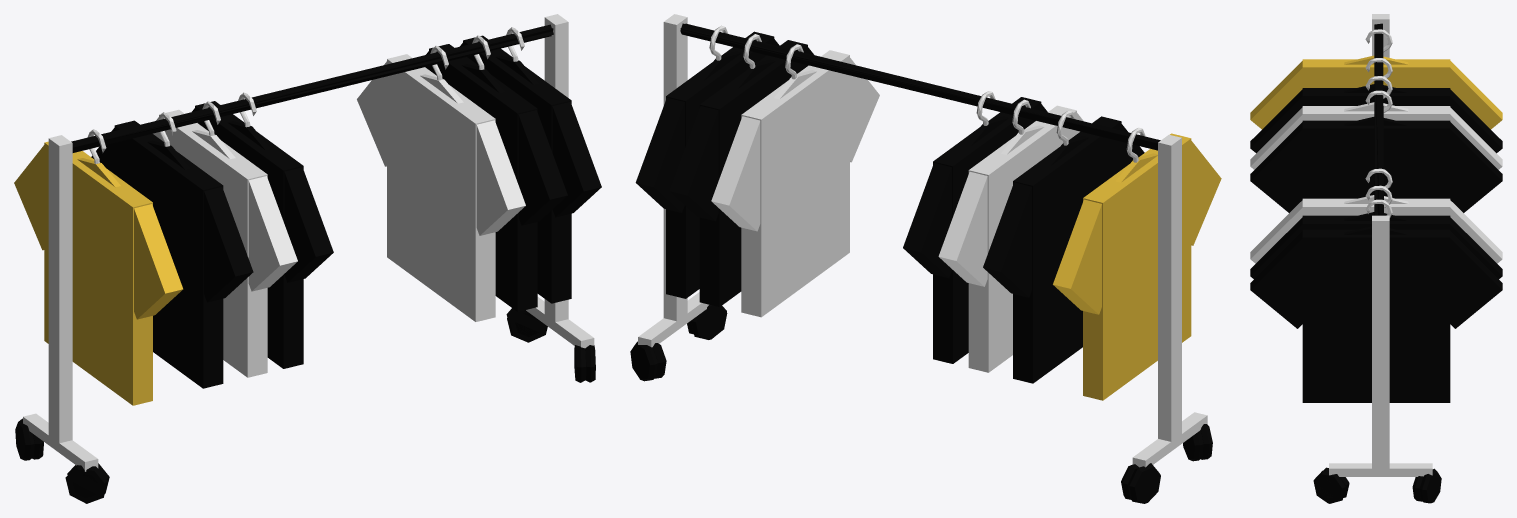
File: rack_8.fbx
3 views of the same model, side by side, from view 1: azimuth 30°, elevation 25°; view 2: azimuth 150°, elevation 25°; view 3: azimuth 270°, elevation 25° (orthographic). The views are drawn at different scales.
Visible parts, largest first — view 1: Plane.007, Plane.013, Plane.011, Plane.010, Plane.008, Plane.006, Plane.009, Stand.R, Bar, Stand.L, Roll.R_1, Roll.L_2 (+2 smaller); view 2: Plane.007, Plane.013, Plane.011, Plane.010, Plane.008, Plane.006, Plane.009, Stand.R, Bar, Stand.L, Roll.R_2, Roll.L_2 (+2 smaller); view 3: Plane.009, Plane.006, Plane.013, Stand.L, Plane.011, Plane.007, Plane.010, Plane.008, Bar, Roll.L_1, Roll.L_2, Stand.R.
Boxes of the visible parts, x1=… form: Plane.007: x1=357, y1=54, x2=525, y2=321; Plane.013: x1=14, y1=141, x2=183, y2=405; Plane.011: x1=91, y1=120, x2=253, y2=388; Plane.010: x1=153, y1=109, x2=297, y2=377; Plane.008: x1=425, y1=44, x2=567, y2=311; Plane.006: x1=192, y1=101, x2=333, y2=368; Plane.009: x1=460, y1=35, x2=601, y2=303; Stand.R: x1=23, y1=135, x2=98, y2=471; Bar: x1=71, y1=24, x2=553, y2=152; Stand.L: x1=526, y1=14, x2=594, y2=348; Roll.R_1: x1=65, y1=463, x2=109, y2=503; Roll.L_2: x1=506, y1=308, x2=547, y2=342; Plane.007: x1=711, y1=50, x2=879, y2=317; Plane.013: x1=1053, y1=133, x2=1221, y2=400; Plane.011: x1=983, y1=116, x2=1144, y2=383; Plane.010: x1=938, y1=105, x2=1083, y2=372; Plane.008: x1=669, y1=40, x2=813, y2=306; Plane.006: x1=903, y1=97, x2=1047, y2=363; Plane.009: x1=635, y1=31, x2=779, y2=298; Stand.R: x1=1132, y1=134, x2=1207, y2=467; Bar: x1=680, y1=23, x2=1160, y2=150; Stand.L: x1=638, y1=14, x2=708, y2=347; Roll.R_2: x1=1121, y1=463, x2=1160, y2=503; Roll.L_2: x1=630, y1=341, x2=666, y2=381; Plane.009: x1=1250, y1=226, x2=1502, y2=402; Plane.006: x1=1250, y1=117, x2=1502, y2=212; Plane.013: x1=1250, y1=55, x2=1502, y2=129; Stand.L: x1=1329, y1=215, x2=1432, y2=476; Plane.011: x1=1250, y1=84, x2=1502, y2=153; Plane.007: x1=1250, y1=195, x2=1502, y2=263; Plane.010: x1=1250, y1=102, x2=1502, y2=169; Plane.008: x1=1250, y1=212, x2=1502, y2=278; Bar: x1=1374, y1=23, x2=1383, y2=215; Roll.L_1: x1=1313, y1=467, x2=1349, y2=503; Roll.L_2: x1=1412, y1=468, x2=1441, y2=503; Stand.R: x1=1372, y1=14, x2=1389, y2=57.
Bounding box in the file's own units: 561 × 346 × 276.
